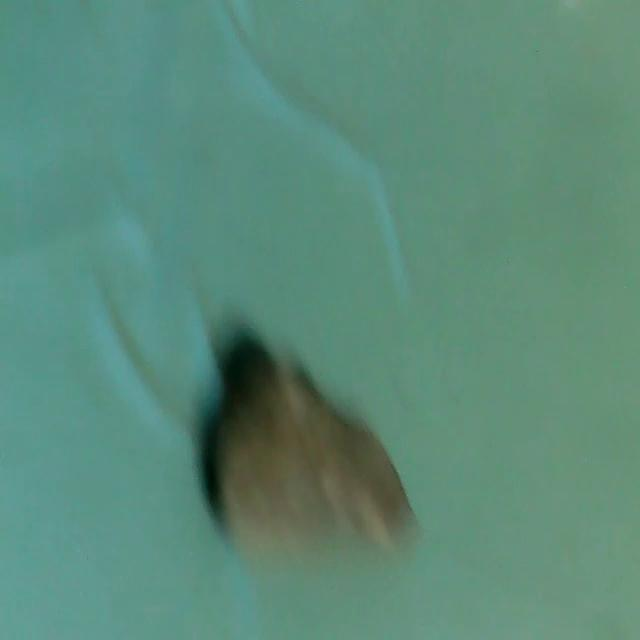rock: (208, 367, 427, 574)
